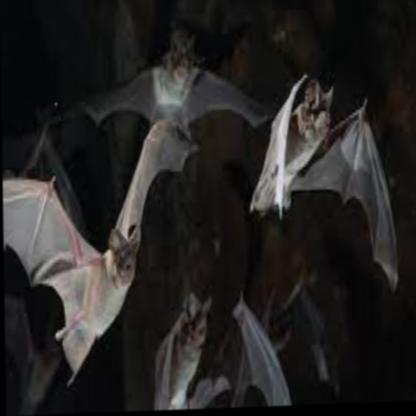Bat: (2, 117, 199, 389), (247, 70, 398, 300), (73, 22, 272, 141), (154, 294, 291, 411)
